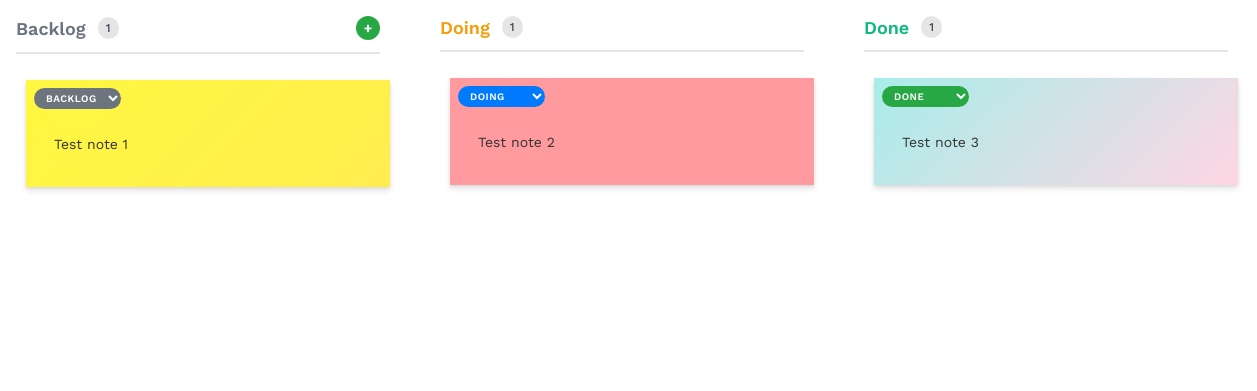
it: DragDropBoard › Add Note Functionality › opens add note form when add button is clicked
Click the button named "Add note to Backlog".
click(368, 28)  # box [356, 16, 380, 40]
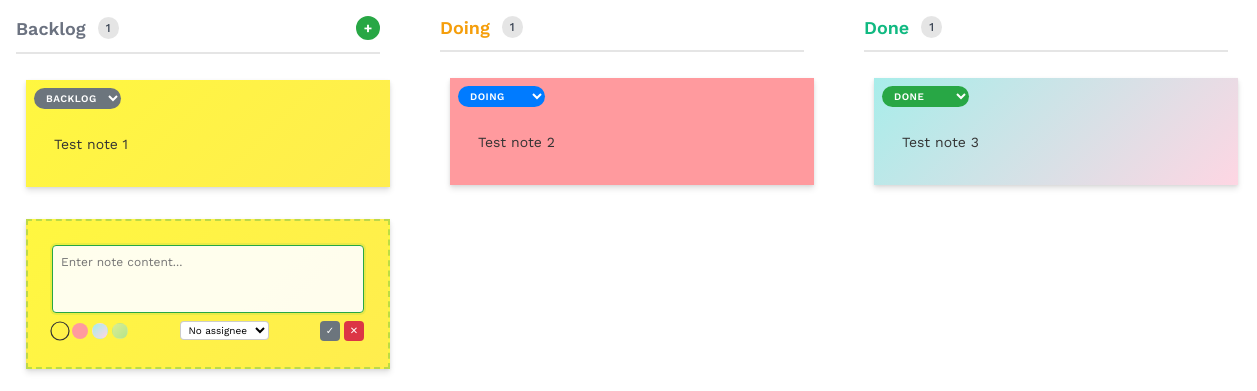
Expected: the button "✓" is shown, [320, 321, 340, 341]
Expected: the text box is shown, [52, 245, 364, 313]
Expected: the element with placeholder "Enter note content..." is shown, [48, 241, 368, 345]
